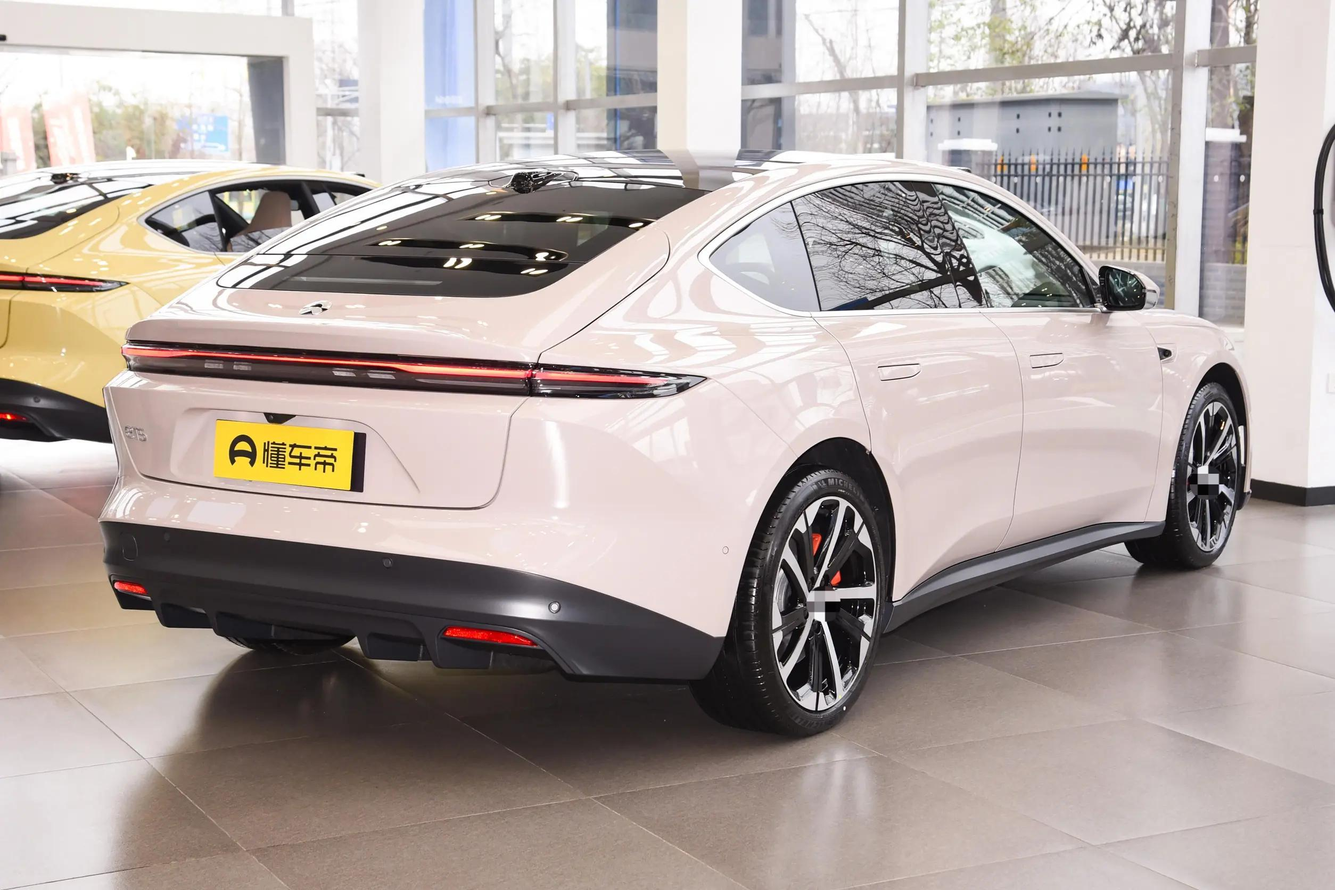NIO: (299, 300, 331, 315)
